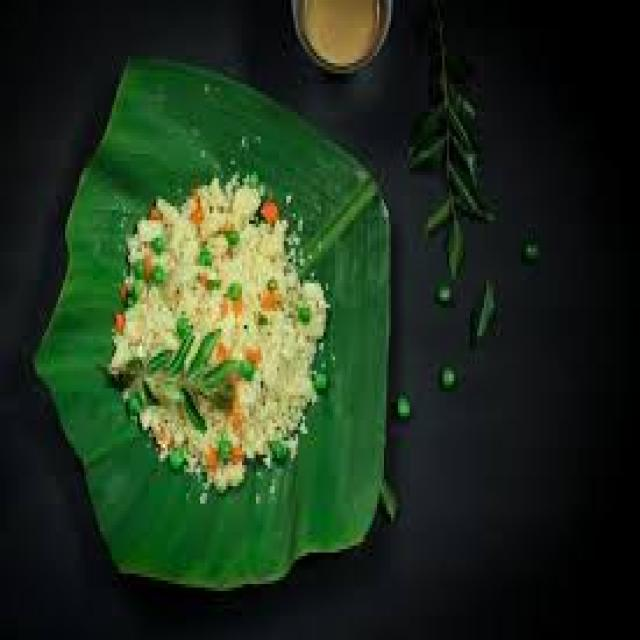UPMA: (109, 171, 323, 483)
